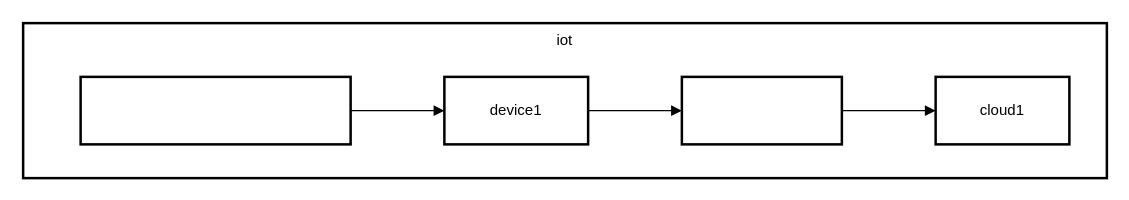
The diagram is 1129 pixels wide and 200 high, and some of its shapes have lost their labels. Each missing label, with the box of its shape:
Bluetooth Low Energy: (79, 75, 351, 145)
gateway1: (680, 75, 842, 145)
